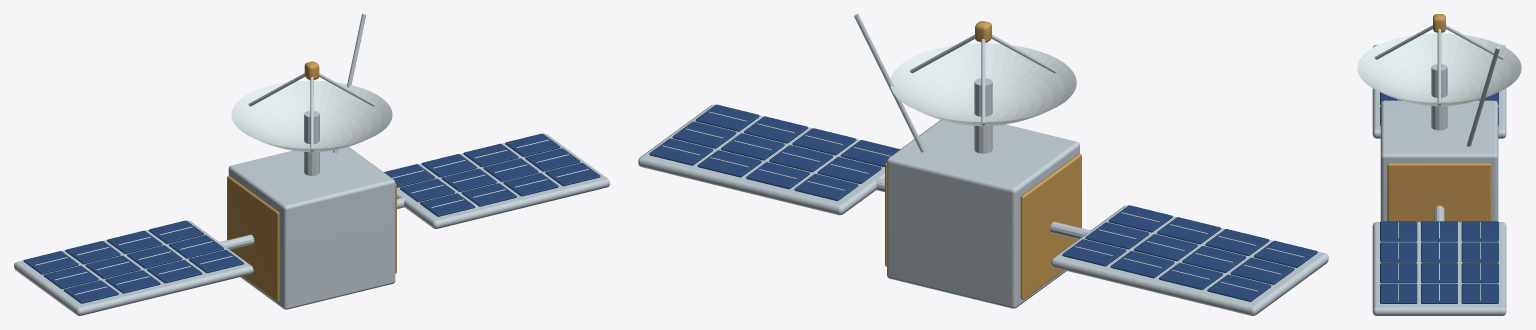
The model's file is satellite.glb.
3 renders of one model, left to right at view 1: azimuth 30°, elevation 25°; view 2: azimuth 150°, elevation 25°; view 3: azimuth 270°, elevation 25°, orthographic. The views are drawn at different scales.
Parts seen in each view (by area): view 1: satellite_Brushed_aluminum.001, satellite_Blue_silicon_cells.001, satellite_Printed_traces.001, satellite_Gold_thermal_foil.001; view 2: satellite_Brushed_aluminum.001, satellite_Blue_silicon_cells.001, satellite_Printed_traces.001, satellite_Gold_thermal_foil.001; view 3: satellite_Brushed_aluminum.001, satellite_Blue_silicon_cells.001, satellite_Printed_traces.001, satellite_Gold_thermal_foil.001.
Part boxes in pixels (left/top/right/bottom): satellite_Brushed_aluminum.001: left=14, top=14, right=609, bottom=315; satellite_Blue_silicon_cells.001: left=23, top=133, right=600, bottom=303; satellite_Printed_traces.001: left=34, top=80, right=588, bottom=294; satellite_Gold_thermal_foil.001: left=227, top=61, right=396, bottom=301; satellite_Brushed_aluminum.001: left=638, top=14, right=1328, bottom=315; satellite_Blue_silicon_cells.001: left=649, top=104, right=1317, bottom=301; satellite_Printed_traces.001: left=662, top=43, right=1304, bottom=291; satellite_Gold_thermal_foil.001: left=885, top=21, right=1081, bottom=299; satellite_Brushed_aluminum.001: left=1372, top=25, right=1506, bottom=315; satellite_Blue_silicon_cells.001: left=1380, top=92, right=1498, bottom=303; satellite_Printed_traces.001: left=1357, top=33, right=1521, bottom=300; satellite_Gold_thermal_foil.001: left=1387, top=14, right=1491, bottom=221.
Bounding box in the file's own units: 4.28 × 1.71 × 1.12.
